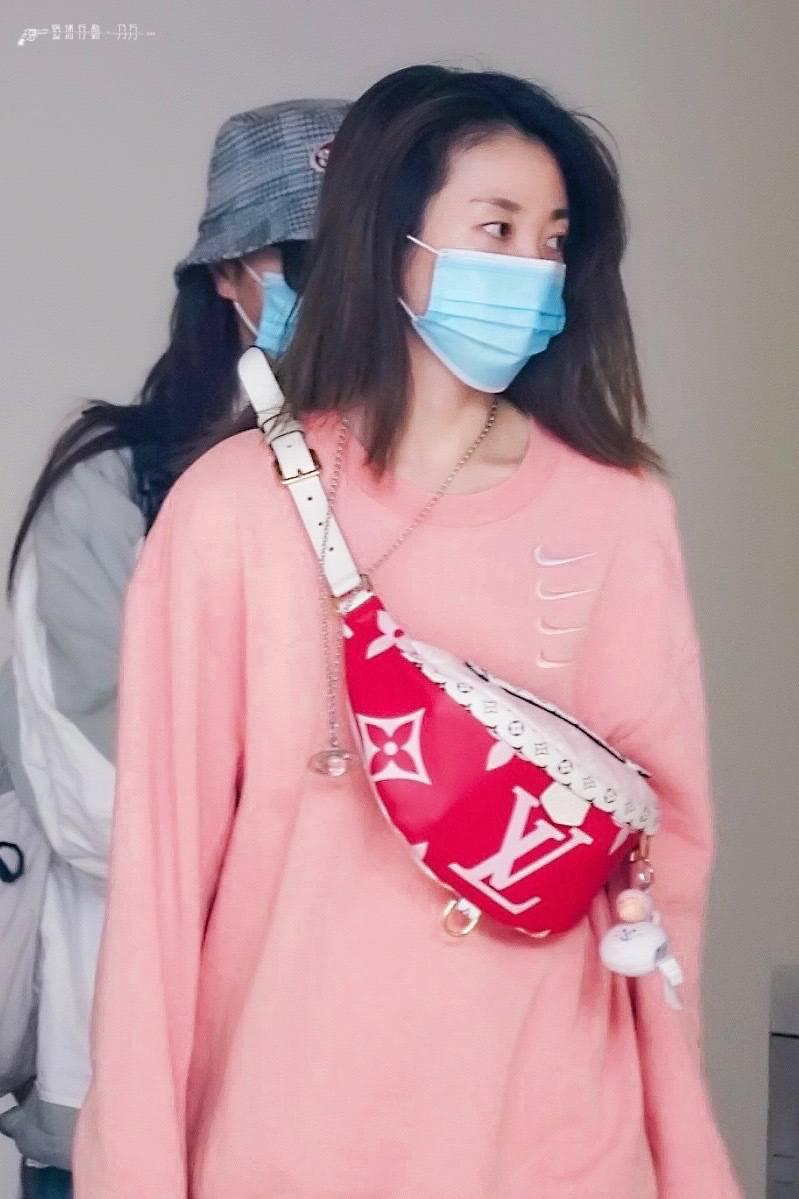OK: (426, 165, 572, 396), (250, 245, 354, 363)
